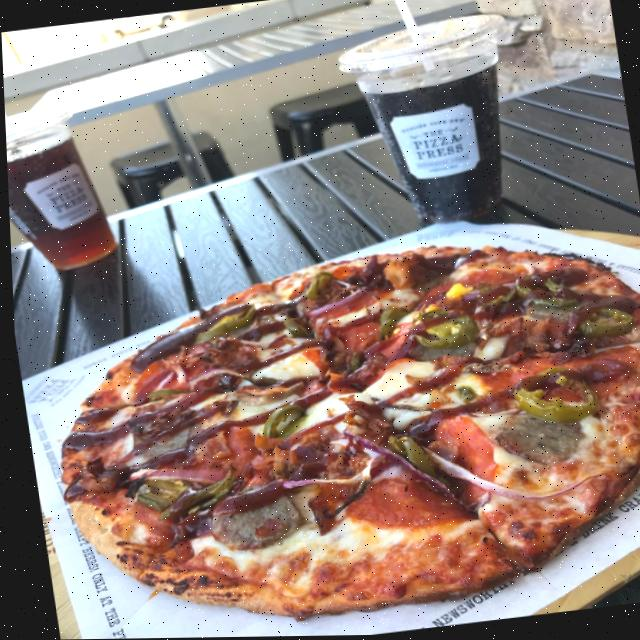pepperoni: (456, 341, 640, 417), (329, 465, 469, 538), (425, 412, 501, 511), (327, 314, 413, 368), (292, 341, 355, 402), (185, 422, 257, 472), (122, 494, 168, 545), (129, 351, 174, 385)
pizza: (27, 222, 640, 640)
